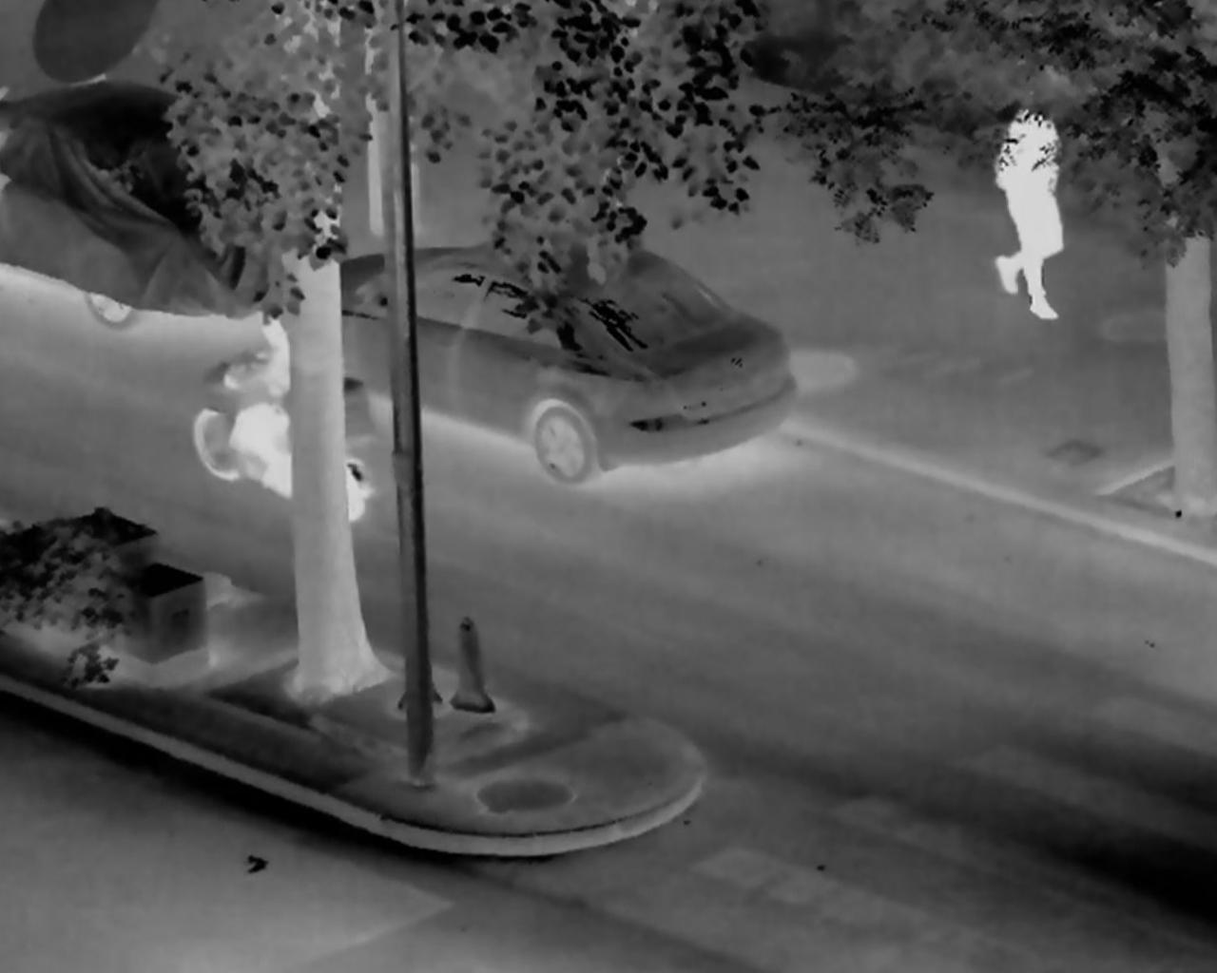person: (226, 303, 331, 472), (992, 90, 1064, 319)
